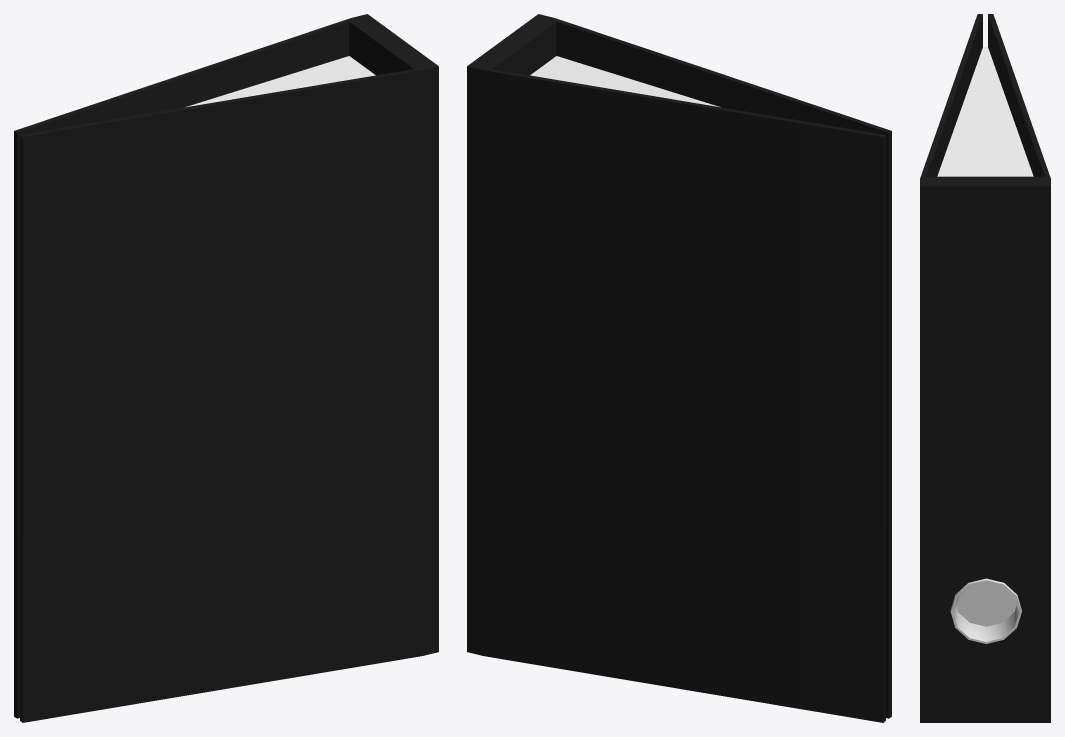
File: Carpeta13.fbx
3 views of the same model, side by side, from view 1: azimuth 30°, elevation 25°; view 2: azimuth 150°, elevation 25°; view 3: azimuth 270°, elevation 25° (orthographic). The views are drawn at different scales.
Visible parts, largest first — view 1: Carpeta13; view 2: Carpeta13; view 3: Carpeta13.
Part boxes in pixels (x1=…): Carpeta13: x1=14, y1=14, x2=438, y2=722; Carpeta13: x1=467, y1=14, x2=891, y2=722; Carpeta13: x1=920, y1=14, x2=1050, y2=722.
Bounding box in the file's own units: 34.66 × 50.08 × 11.07.
